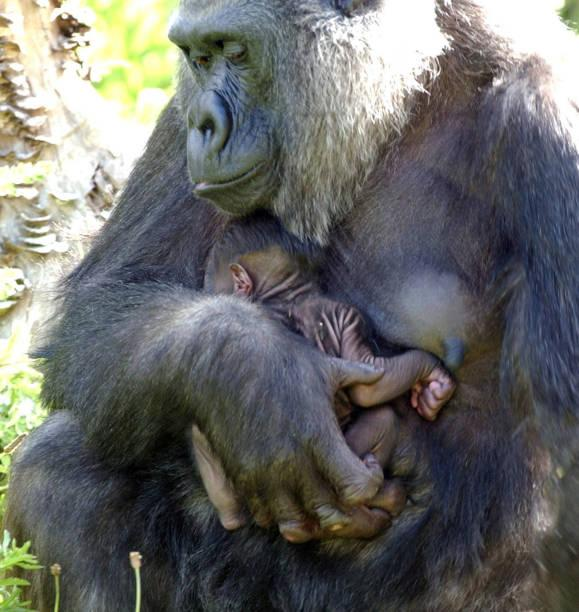gorille_Autres: (5, 2, 579, 404)
